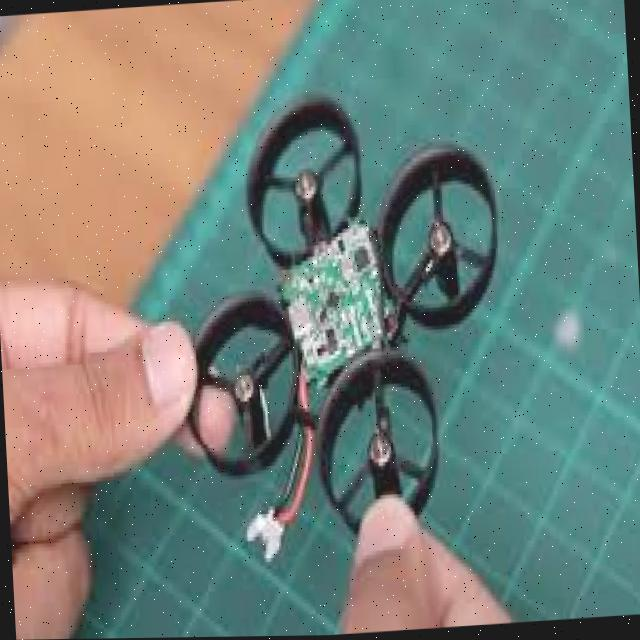drone: (172, 75, 522, 556)
